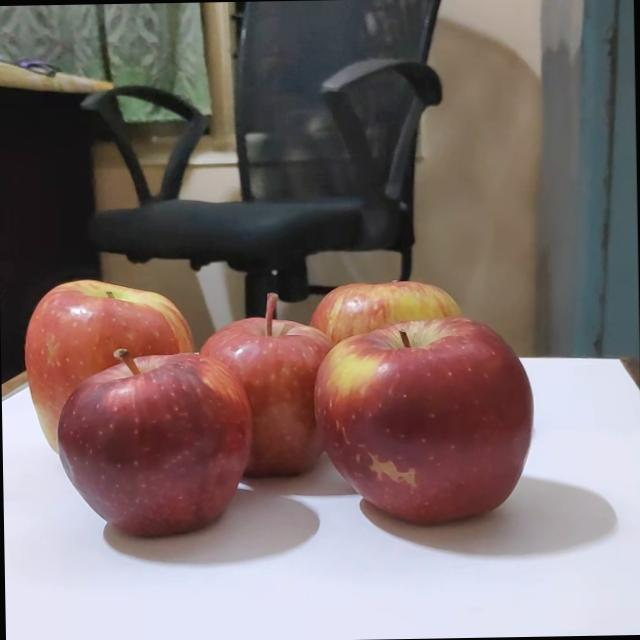apple: (291, 306, 524, 521), (36, 342, 235, 528), (187, 282, 342, 472), (20, 268, 192, 426), (300, 266, 474, 394)
